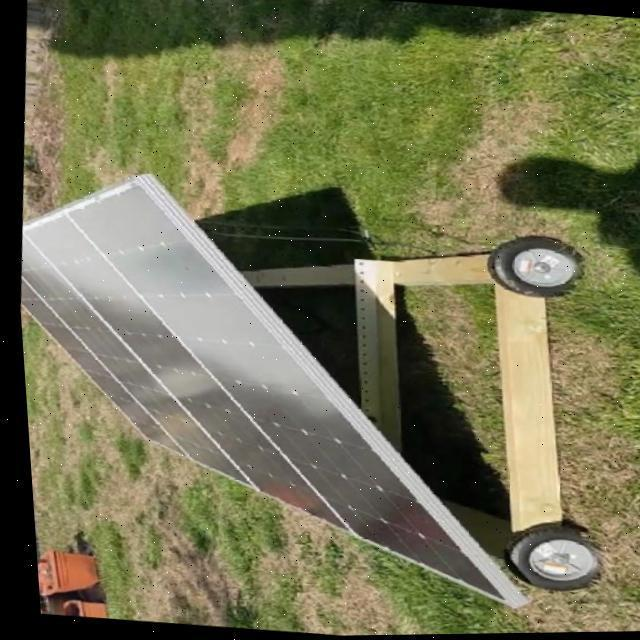Normal Solar Panel: (9, 162, 541, 612)
